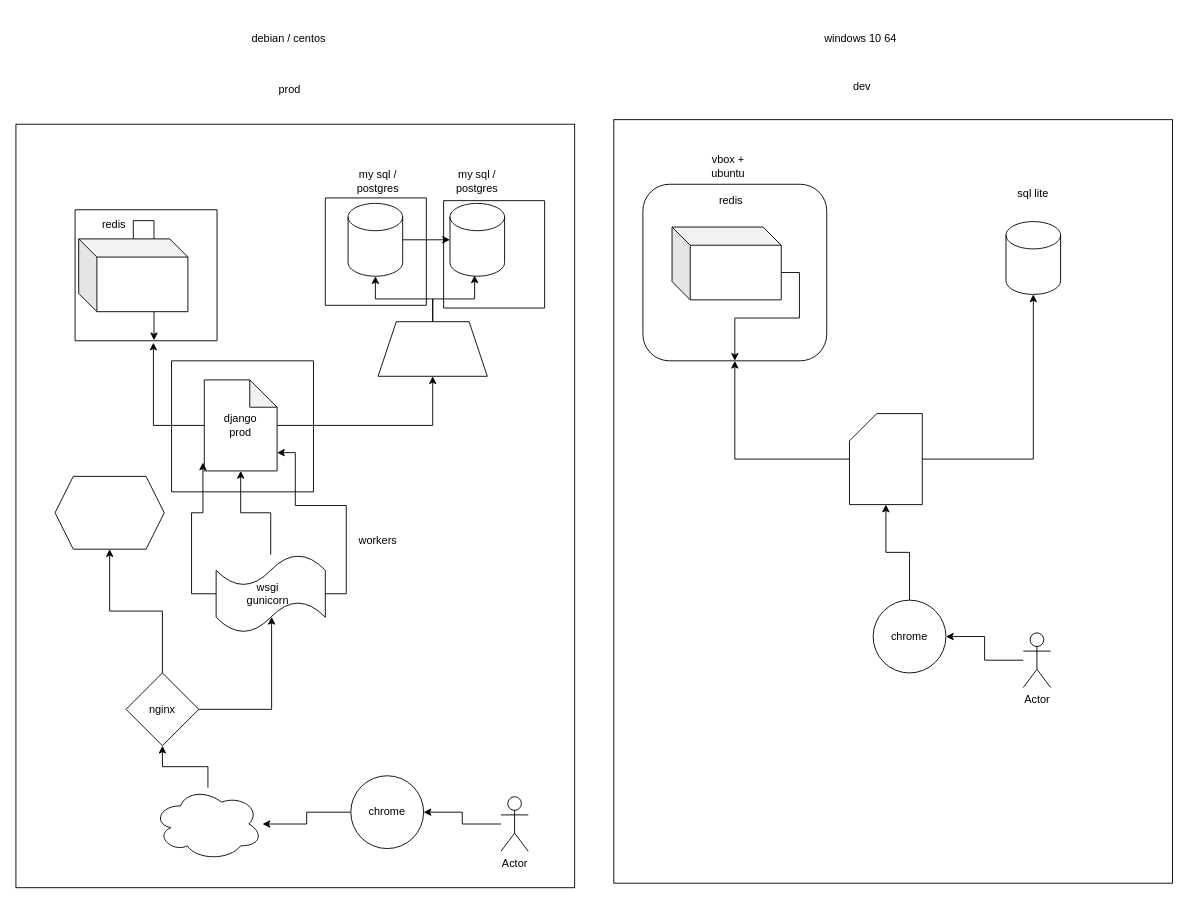
This 1188x904 diagram has some shape labels left out. The shapes that lost their labels are listed below. From the top down, each one's centre as x and y in pixels, then its label:
At (432,348): "кластер".
At (885,459): "django dev".
At (109,512): "js / ,png / css / xlsx".
At (207,823): "cdn / web".
